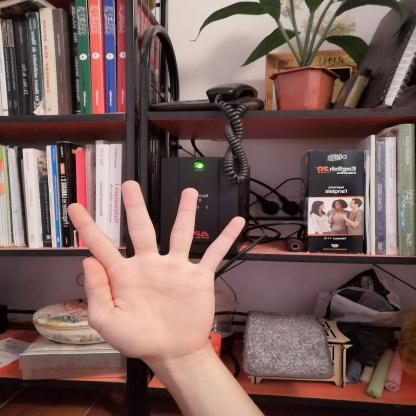SHEEN: (47, 170, 257, 372)
